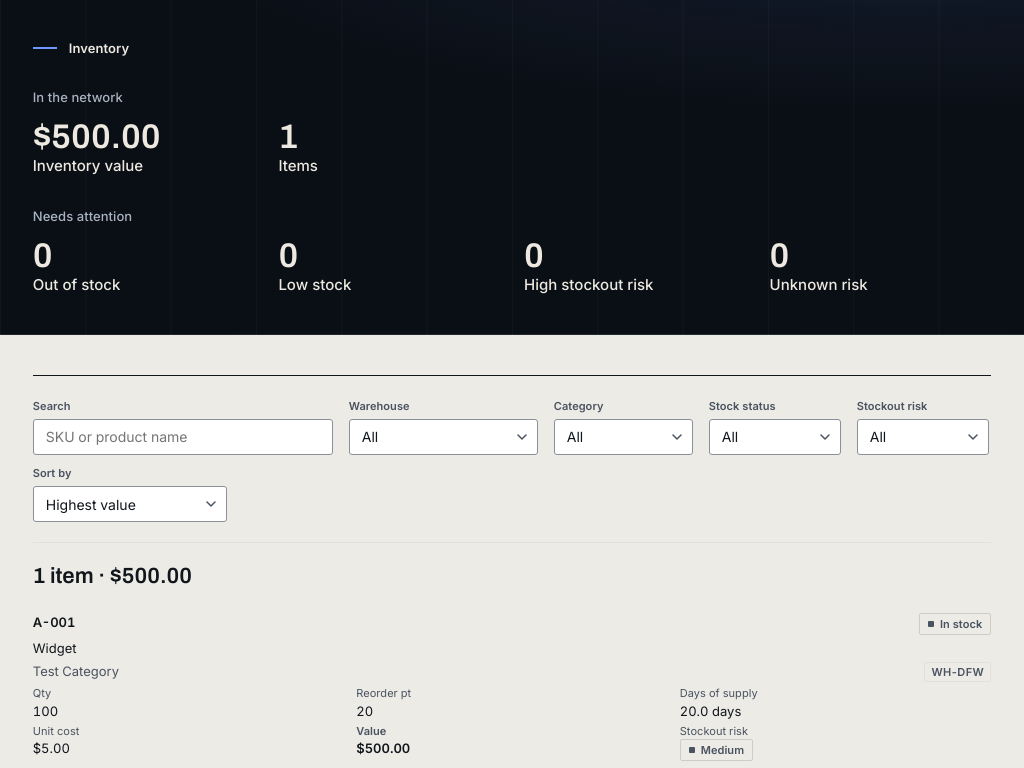
Test: InventoryPage › shows "no results" with a working clear-filters button when filters match nothing
Step 1. Type "nomatch" into the search field labelled "Search" → (183, 437), box [33,419,333,455]
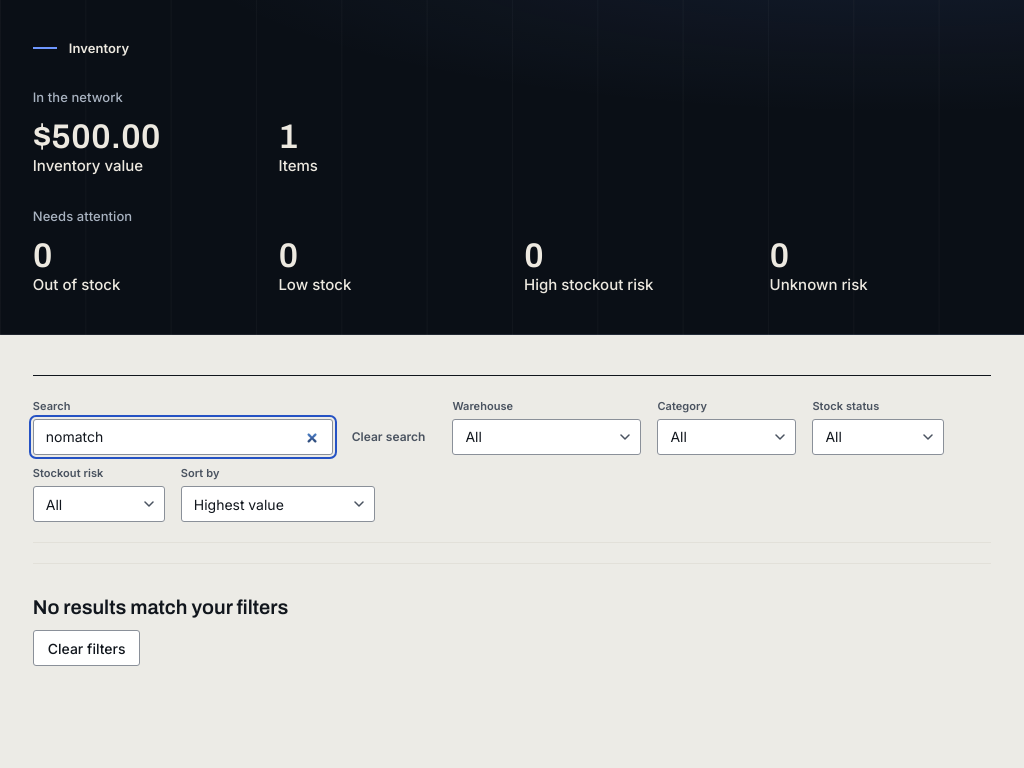
Now the text "No results match your filters" is shown, box [33,596,288,618]
Step 2. Click the button "Clear filters" → (87, 648), box [33,630,140,666]
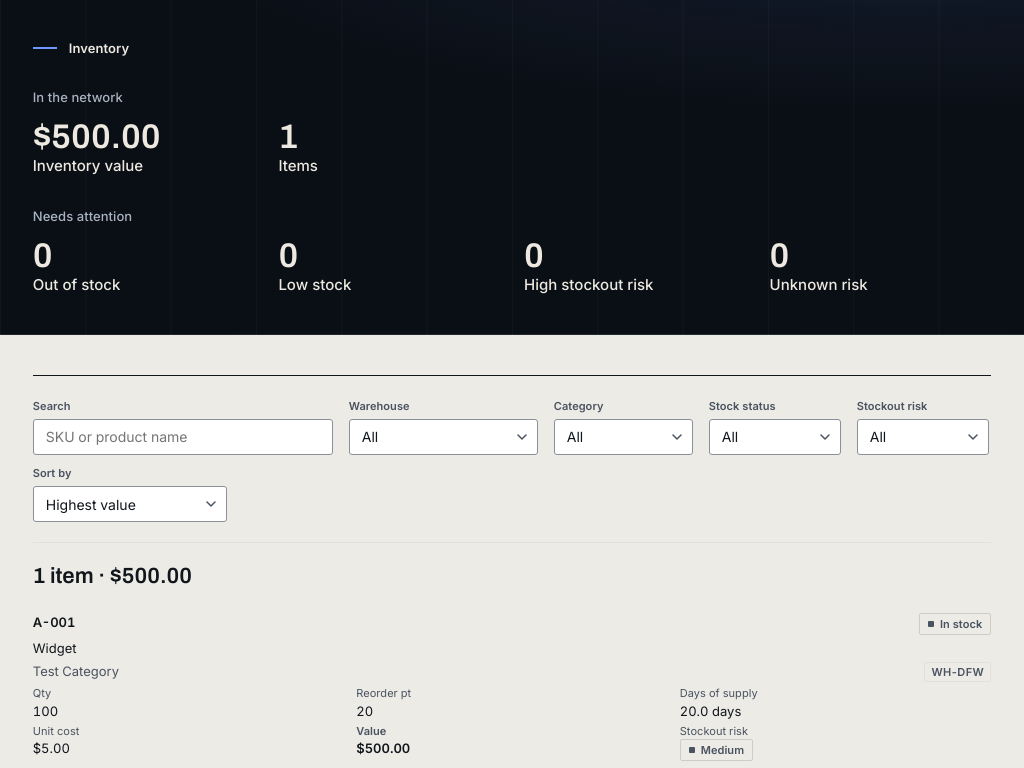
Now the text "A-001" is shown, box [33,614,76,630]
